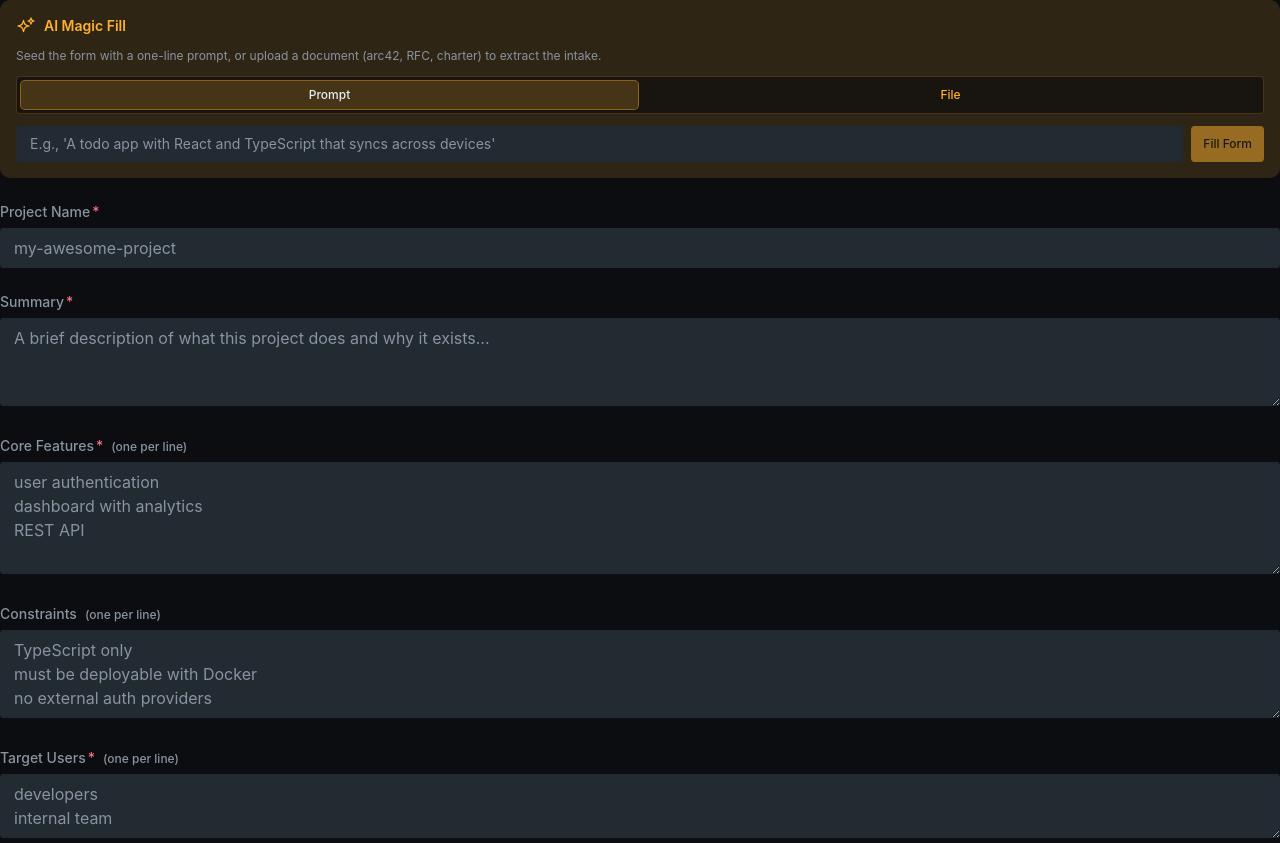
Test case: ProjectForm AI magic fill and the session gate › shows the session-expired message when the fill request is rejected with 401
Check: the heading "AI Magic Fill" is shown, box [44,16,126,36]
Replace the text in the field with placeholder "todo app" with "a todo app": {"x": 600, "y": 144} [16,126,1183,162]
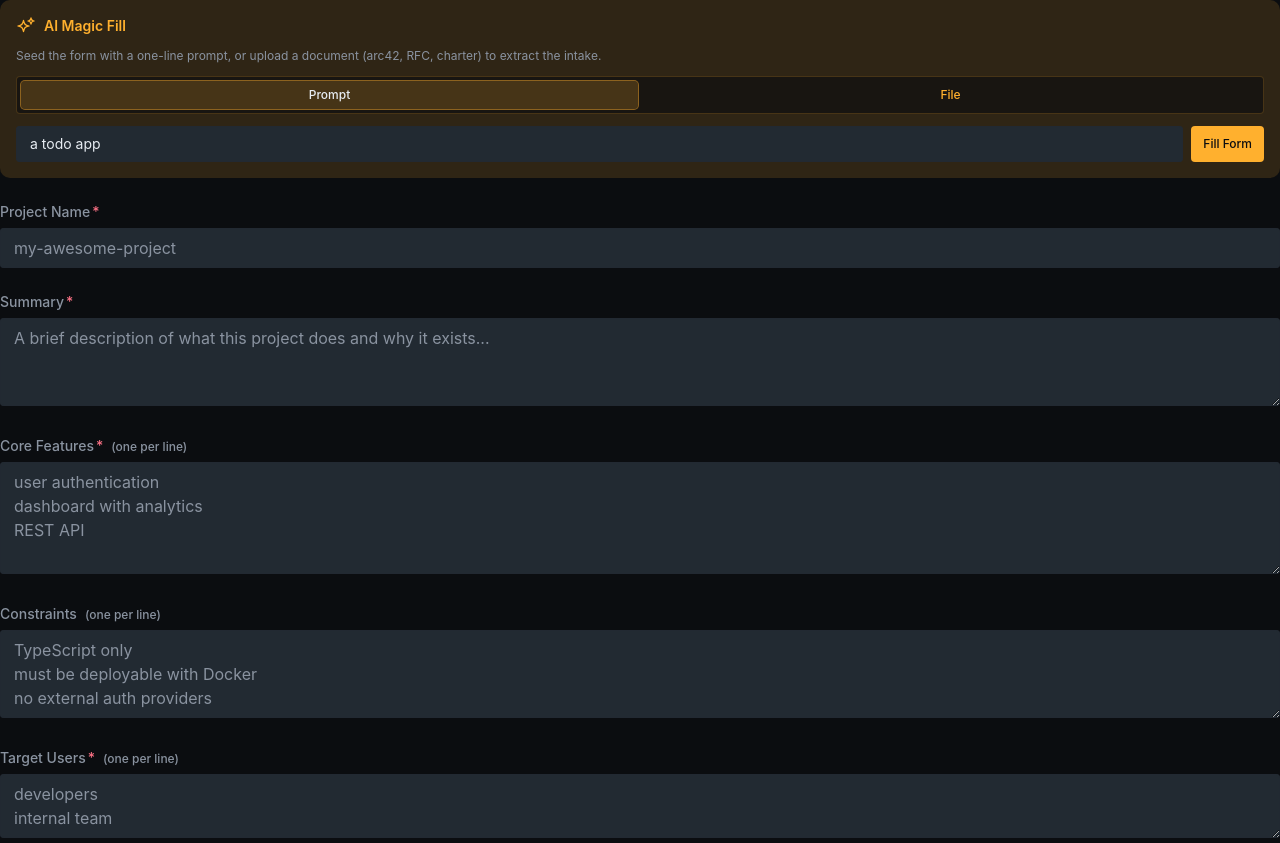
Click the button "Fill Form": {"x": 1228, "y": 144} [1191,126,1264,162]
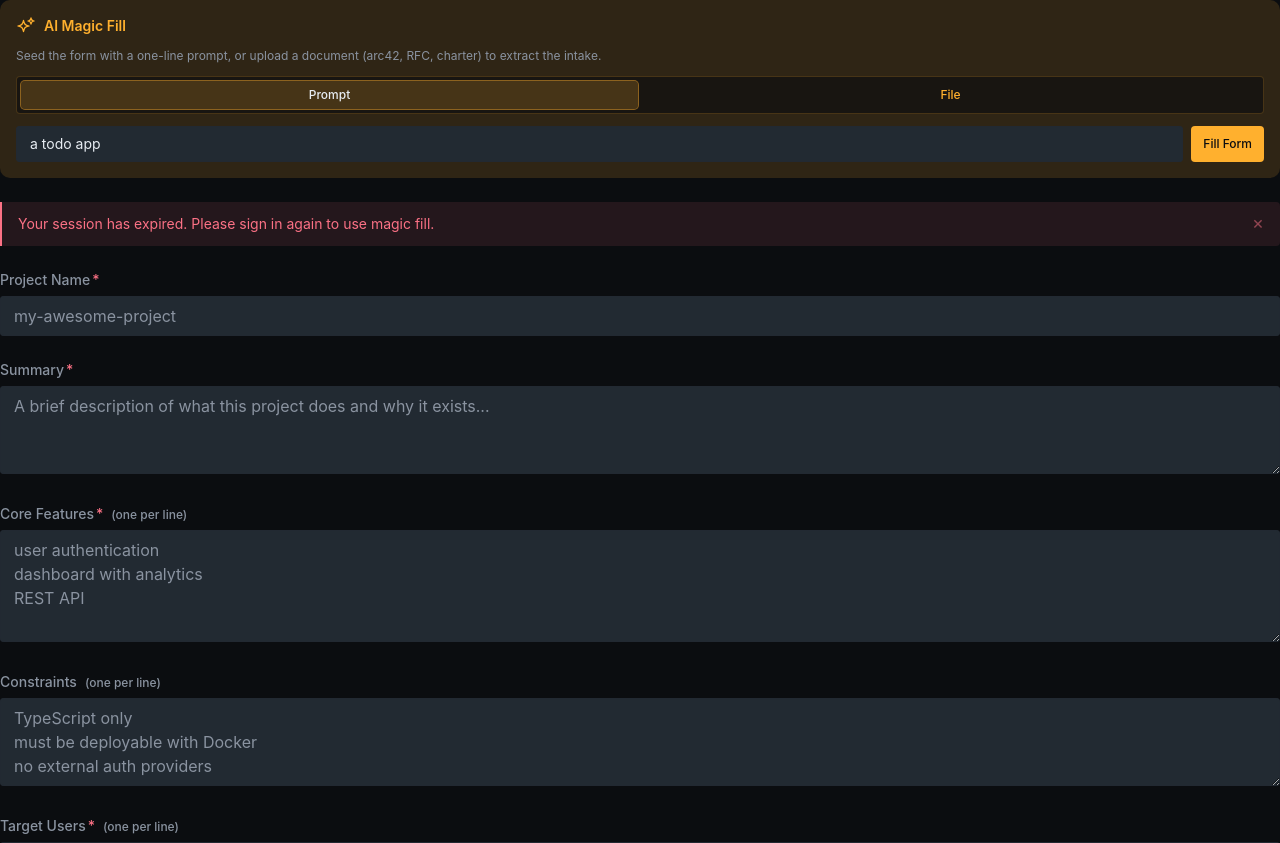
Check: the message shows "Your session has expired", box [18,215,434,232]
